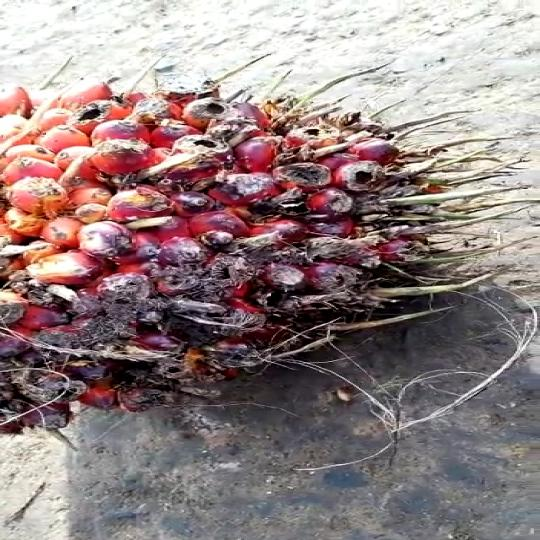masak: (0, 60, 477, 434)
